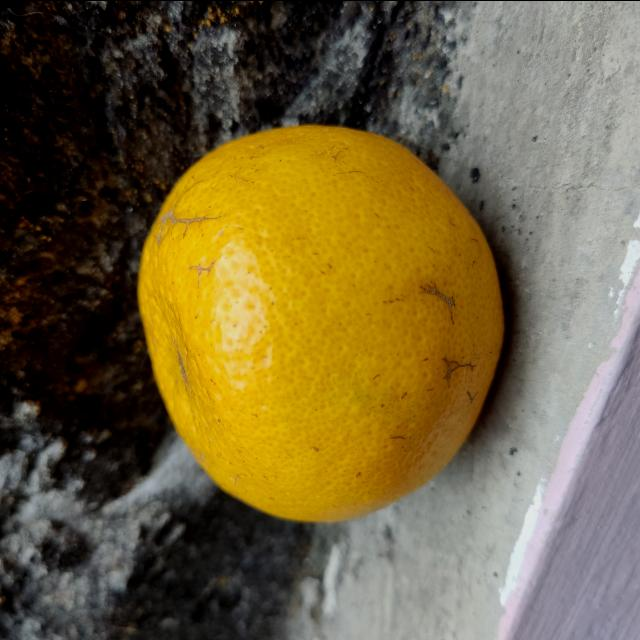orange: (134, 116, 510, 524)
